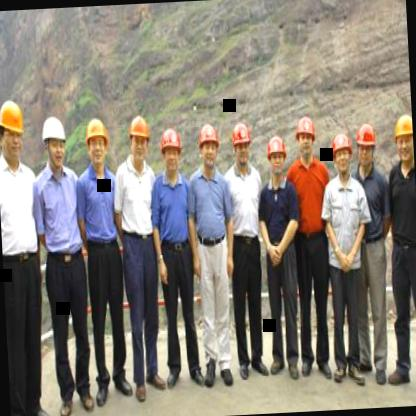helmet: (0, 94, 28, 166), (40, 112, 68, 171), (82, 113, 110, 171), (158, 124, 184, 178), (126, 112, 152, 165), (292, 112, 320, 160), (194, 119, 220, 170), (391, 110, 414, 167), (329, 129, 355, 177), (354, 118, 378, 168), (231, 118, 253, 166), (264, 132, 286, 180)
